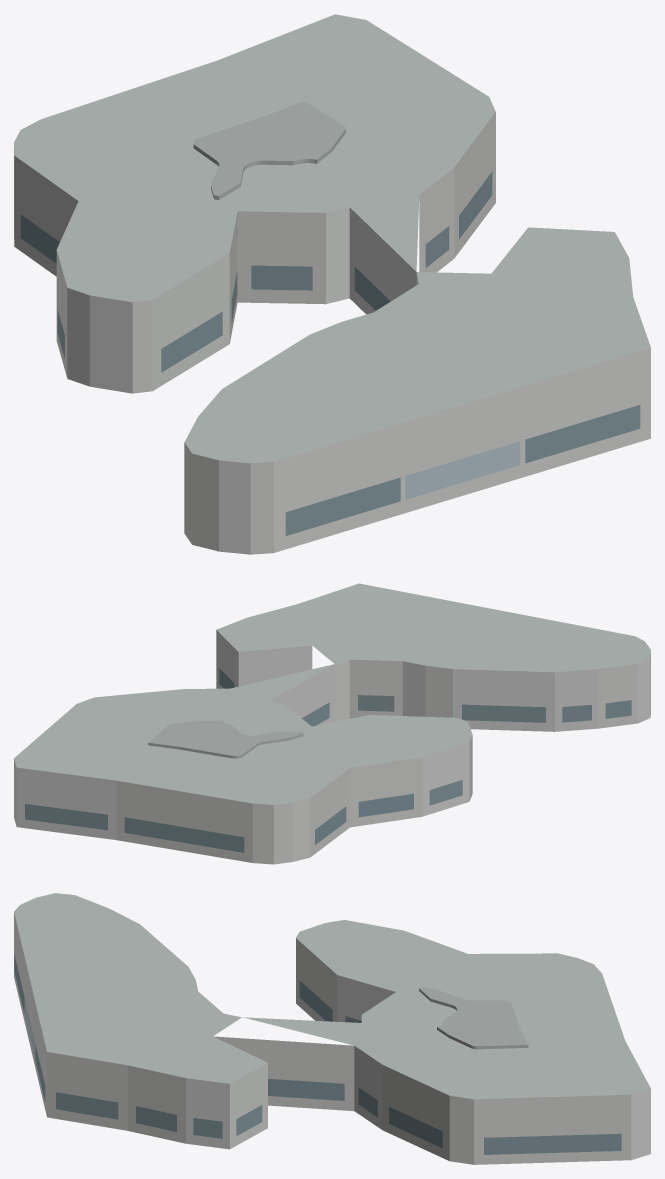
The model's file is landmark-38d6dd91-0b0e-4c62-9162-84530aaa347a.glb.
The picture shows the model from 3 angles, top to bottom: view 1: azimuth 30°, elevation 25°; view 2: azimuth 150°, elevation 25°; view 3: azimuth 270°, elevation 25°; orthographic projection. The views are drawn at different scales.
Visible parts, largest first — view 1: landmark-38d6dd91-0b0e-4c62-9162-84530aaa347a; view 2: landmark-38d6dd91-0b0e-4c62-9162-84530aaa347a; view 3: landmark-38d6dd91-0b0e-4c62-9162-84530aaa347a.
Boxes of the visible parts, bbox=[...] form: landmark-38d6dd91-0b0e-4c62-9162-84530aaa347a: bbox=[14, 14, 650, 554]; landmark-38d6dd91-0b0e-4c62-9162-84530aaa347a: bbox=[14, 583, 650, 864]; landmark-38d6dd91-0b0e-4c62-9162-84530aaa347a: bbox=[14, 893, 650, 1164].
Size of the model in its own units: 41.16 by 6.37 by 53.71.
